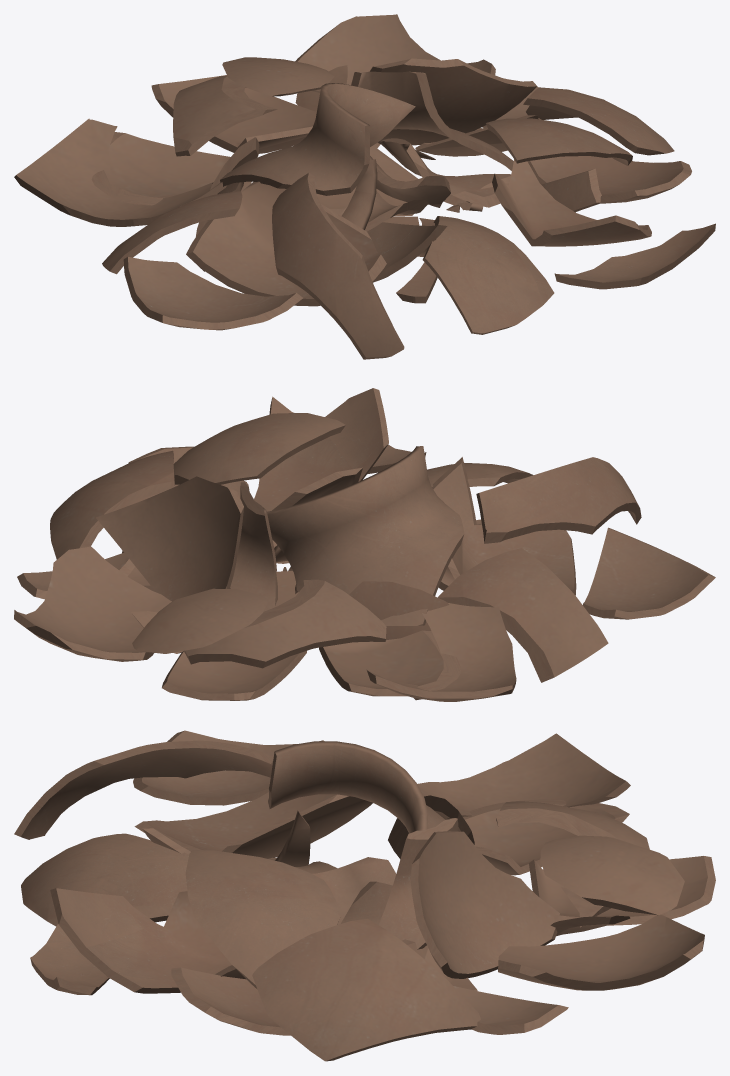
File: Pots_Cracked1.fbx
3 views of the same model, one above another, from view 1: azimuth 30°, elevation 25°; view 2: azimuth 150°, elevation 25°; view 3: azimuth 270°, elevation 25° (orthographic). The views are drawn at different scales.
Visible parts, largest first — view 1: Cracekd_Pot; view 2: Cracekd_Pot; view 3: Cracekd_Pot.
Boxes of the visible parts, x1,y1,x2,y2 form: Cracekd_Pot: (14,14,715,359); Cracekd_Pot: (14,388,715,701); Cracekd_Pot: (14,730,715,1061).
Size of the model in its own units: 242 by 73.32 by 233.
